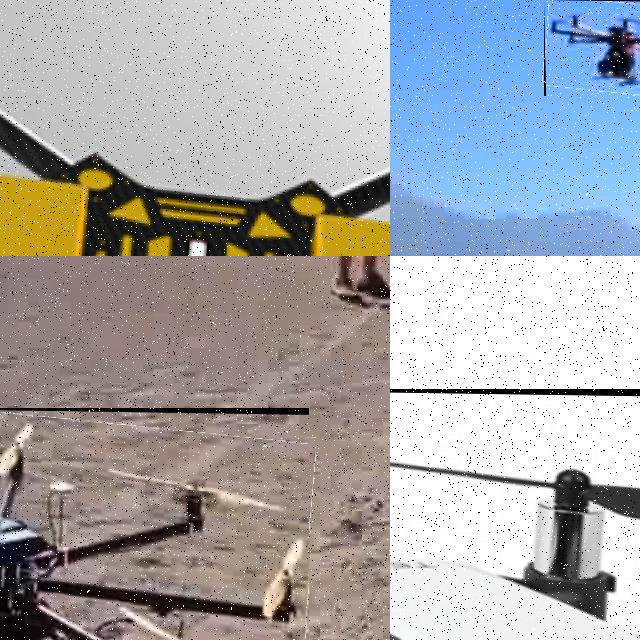drone: (0, 0, 390, 256), (0, 408, 309, 640), (390, 389, 640, 640), (544, 0, 640, 96)
